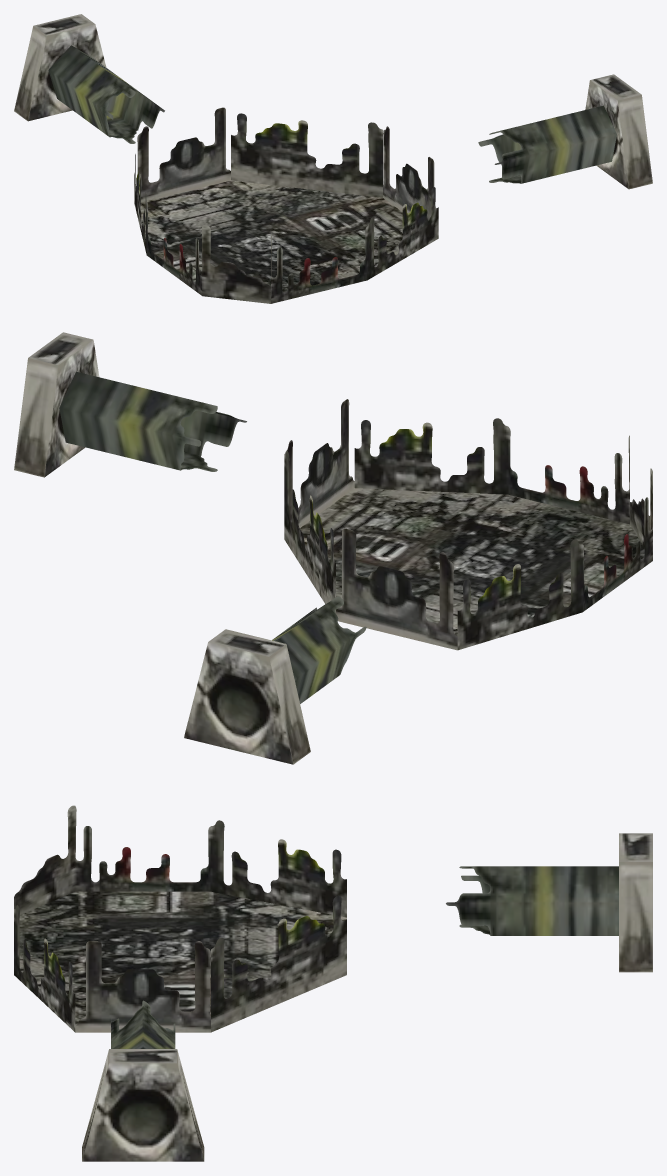
File: cornerpipe_dam_hdtex.glb
3 renders of one model, top to bottom at view 1: azimuth 30°, elevation 25°; view 2: azimuth 150°, elevation 25°; view 3: azimuth 270°, elevation 25°, orthographic. The views are drawn at different scales.
Visible parts, largest first — view 1: cornerpipe damaged; view 2: cornerpipe damaged; view 3: cornerpipe damaged.
Part boxes in pixels (box(x1,y1,x2,y2)): cornerpipe damaged: box(14, 14, 652, 303); cornerpipe damaged: box(14, 332, 652, 764); cornerpipe damaged: box(14, 805, 652, 1161).
Bounding box in the file's own units: 16.02 × 2.73 × 16.02.
1 material, 1 textured.
